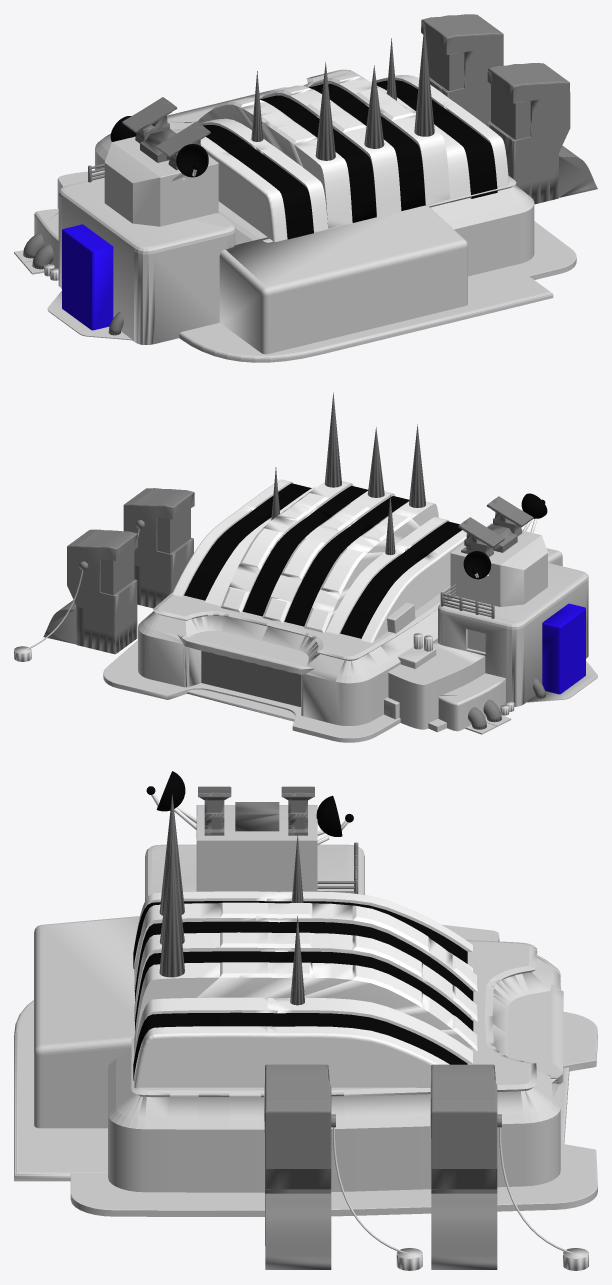
3 renders of one model, top to bottom at view 1: azimuth 30°, elevation 25°; view 2: azimuth 150°, elevation 25°; view 3: azimuth 270°, elevation 25°, orthographic. The views are drawn at different scales.
Visible parts, largest first — view 1: Line005; view 2: Line005; view 3: Line005.
Part boxes in pixels (x1,y1,x2,y2): Line005: (14, 14, 597, 362); Line005: (14, 392, 597, 742); Line005: (14, 771, 597, 1270).
Bounding box in the file's own units: 354 × 154 × 265.
